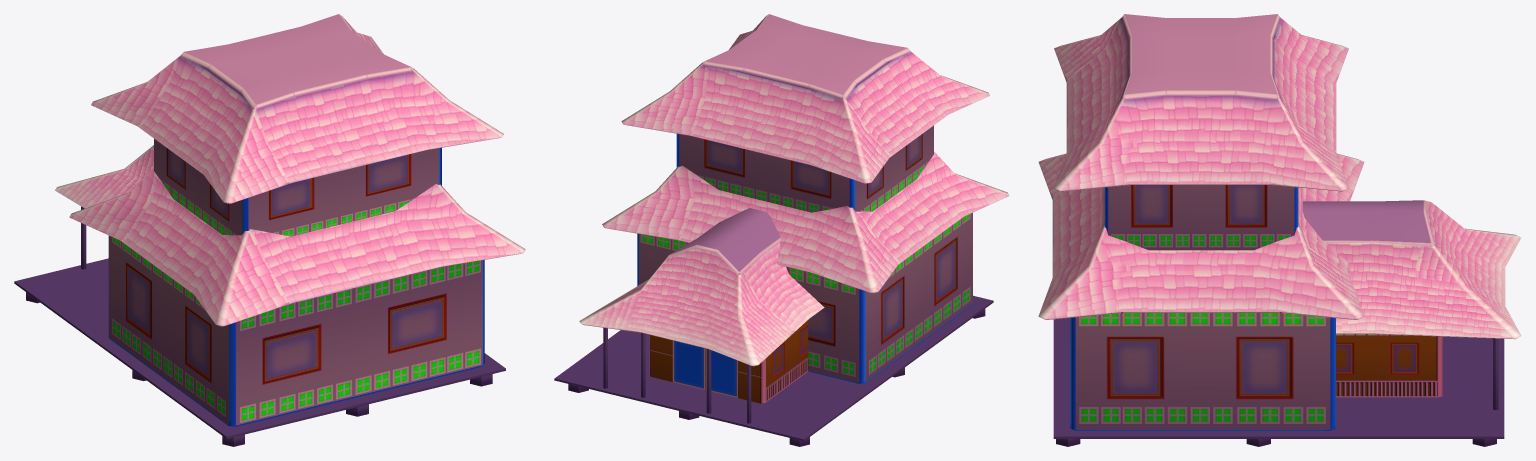
File: house_2.fbx
The picture shows the model from 3 angles, left to right: view 1: azimuth 30°, elevation 25°; view 2: azimuth 150°, elevation 25°; view 3: azimuth 270°, elevation 25°; orthographic projection. The views are drawn at different scales.
Parts seen in each view (by area): view 1: house_2; view 2: house_2; view 3: house_2.
Part boxes in pixels (x1,y1,x2,y2): house_2: (14, 14, 525, 446); house_2: (554, 14, 1009, 446); house_2: (1038, 14, 1521, 446).
Size of the model in its own units: 11.89 by 11.2 by 15.12.
